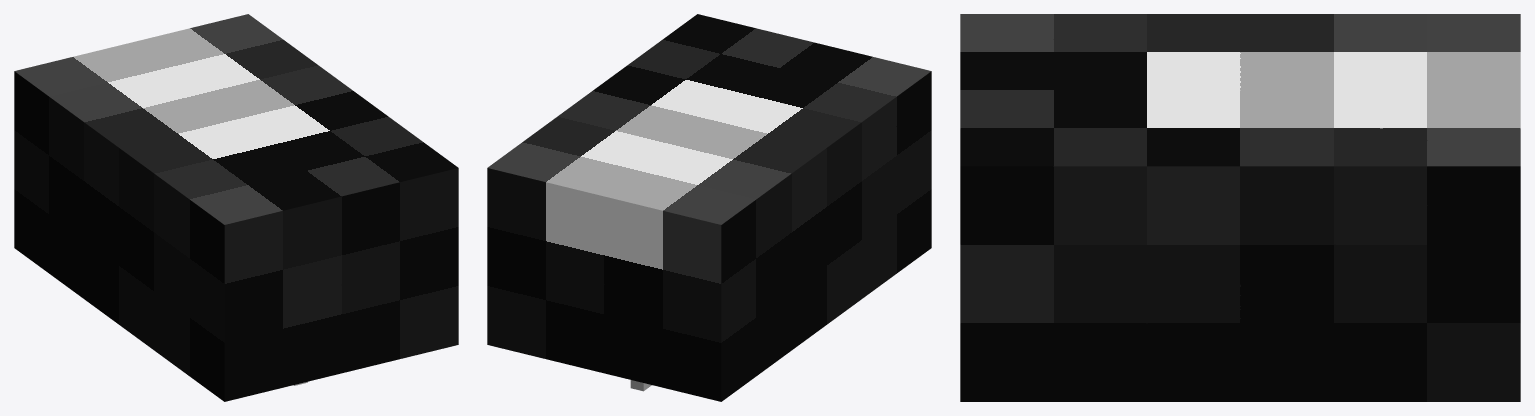
File: ice-skate-right.gltf
The picture shows the model from 3 angles, left to right: view 1: azimuth 30°, elevation 25°; view 2: azimuth 150°, elevation 25°; view 3: azimuth 270°, elevation 25°; orthographic projection. The views are drawn at different scales.
Parts seen in each view (by area): view 1: nice-foot-cosmetic-geo; view 2: nice-foot-cosmetic-geo; view 3: nice-foot-cosmetic-geo.
Part boxes in pixels (<box>): nice-foot-cosmetic-geo: <box>14,14,458,401</box>; nice-foot-cosmetic-geo: <box>487,14,931,401</box>; nice-foot-cosmetic-geo: <box>960,14,1520,401</box>.
Size of the model in its own units: 0.225 by 0.1938 by 0.35.
2 materials, 2 textured.
